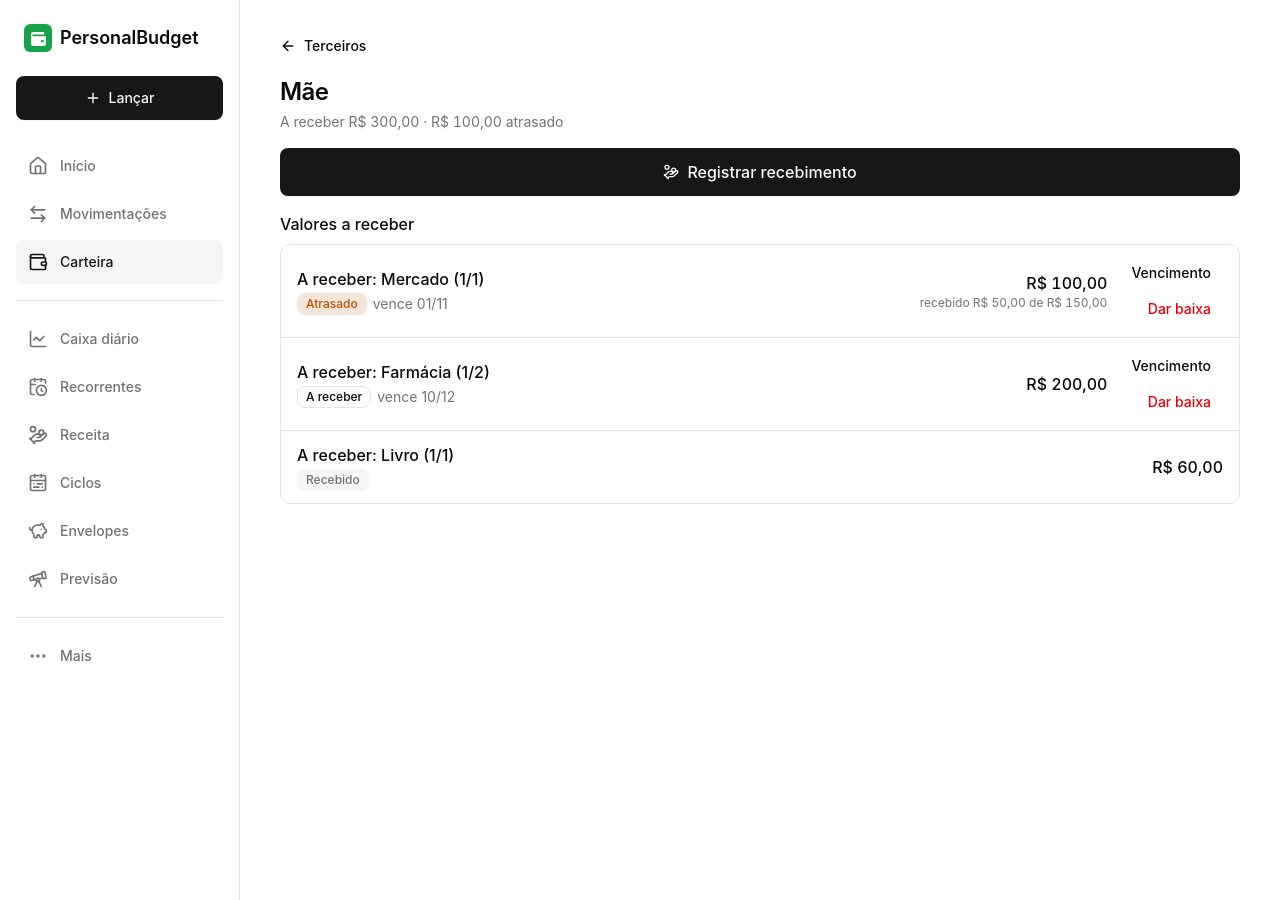
Test: Terceiro: a receber › should show why the back refused the new due date
Step 1. Click the button with aria-label "Alterar vencimento de A receber: Farmácia (1/2)" → point(1171, 366), box [1119, 350, 1223, 382]
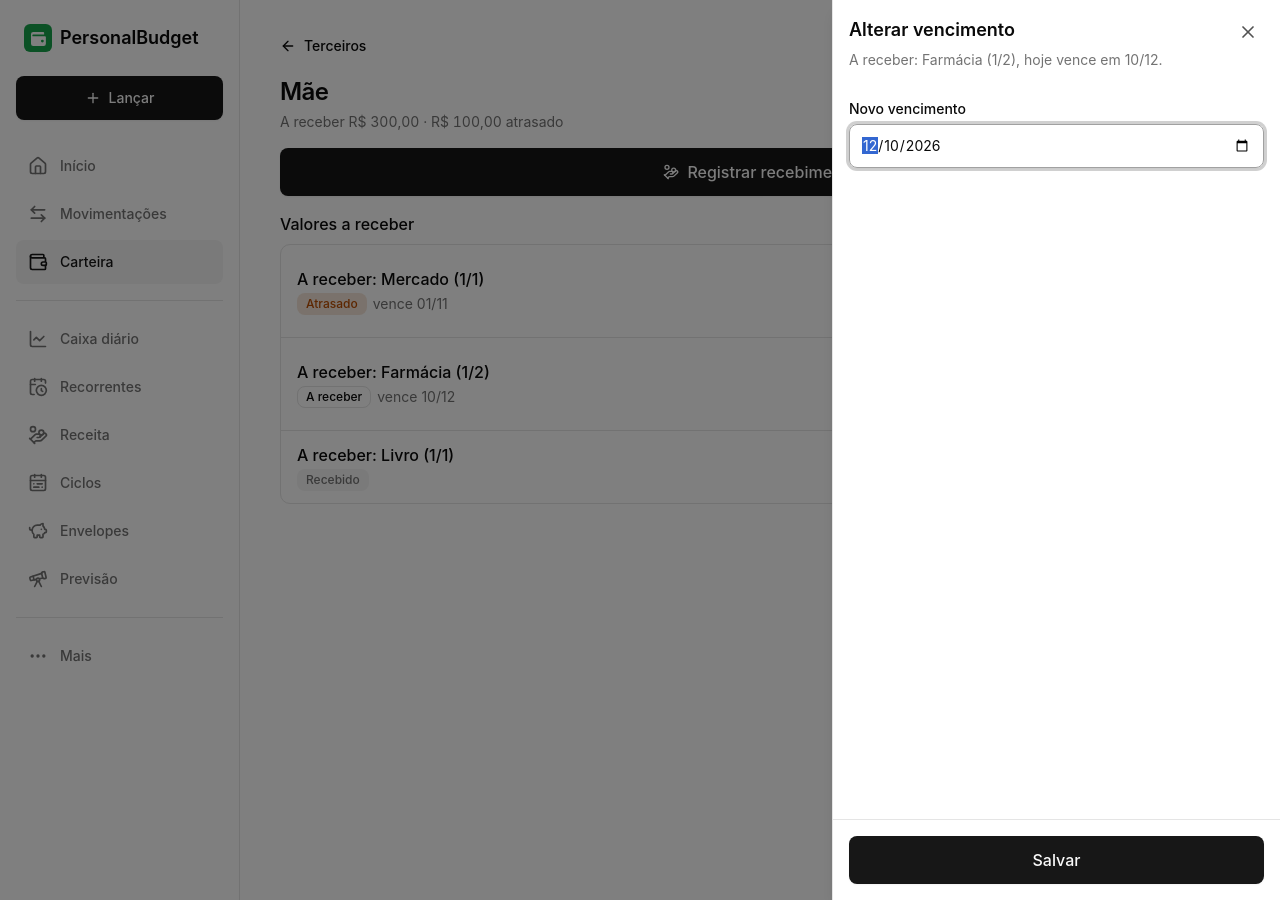
Step 2. Type "2026-12-20" into the date field labelled "Novo vencimento" → point(1056, 146), box [849, 124, 1264, 168]
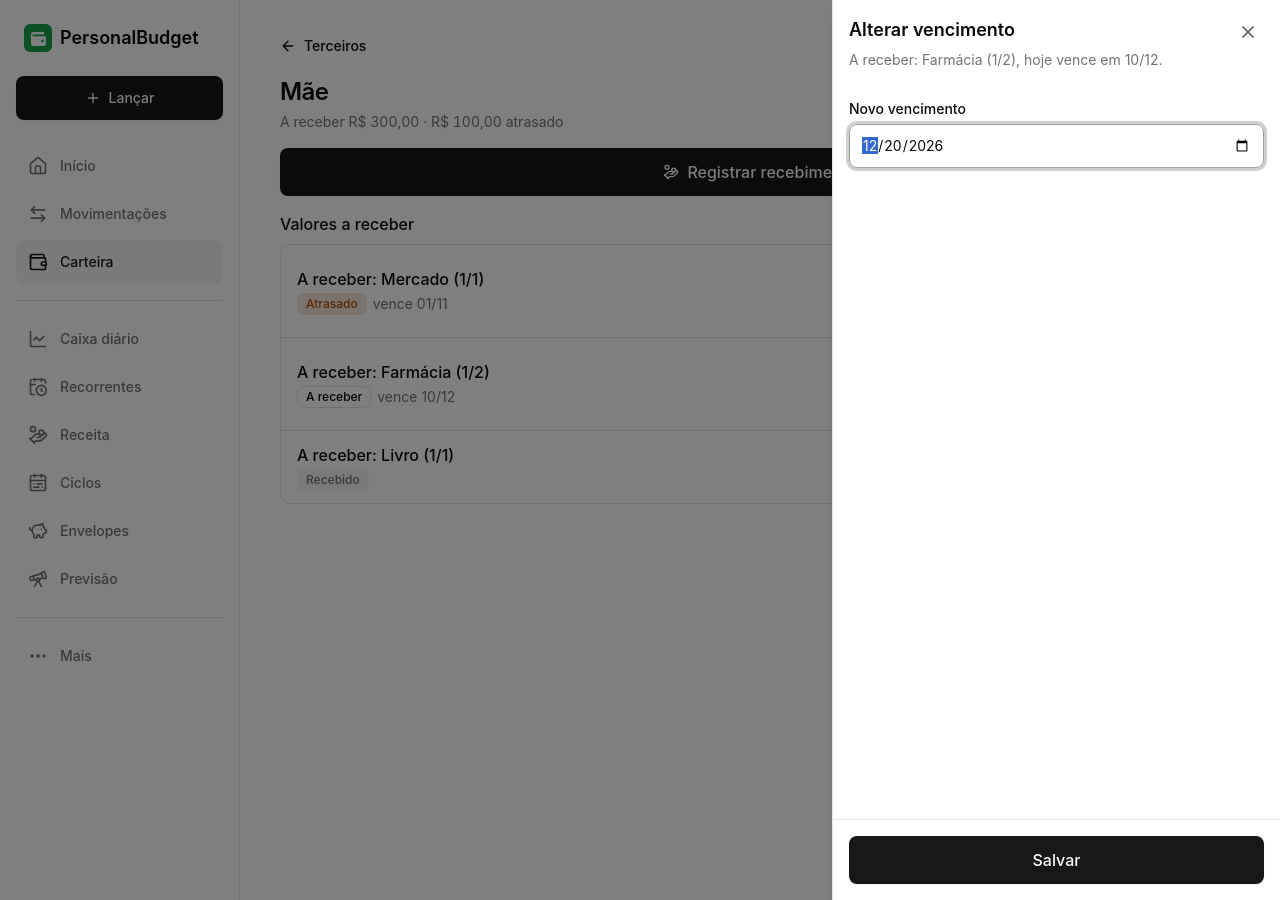
Step 3. Click the button "Salvar" → point(1056, 860), box [849, 836, 1264, 884]
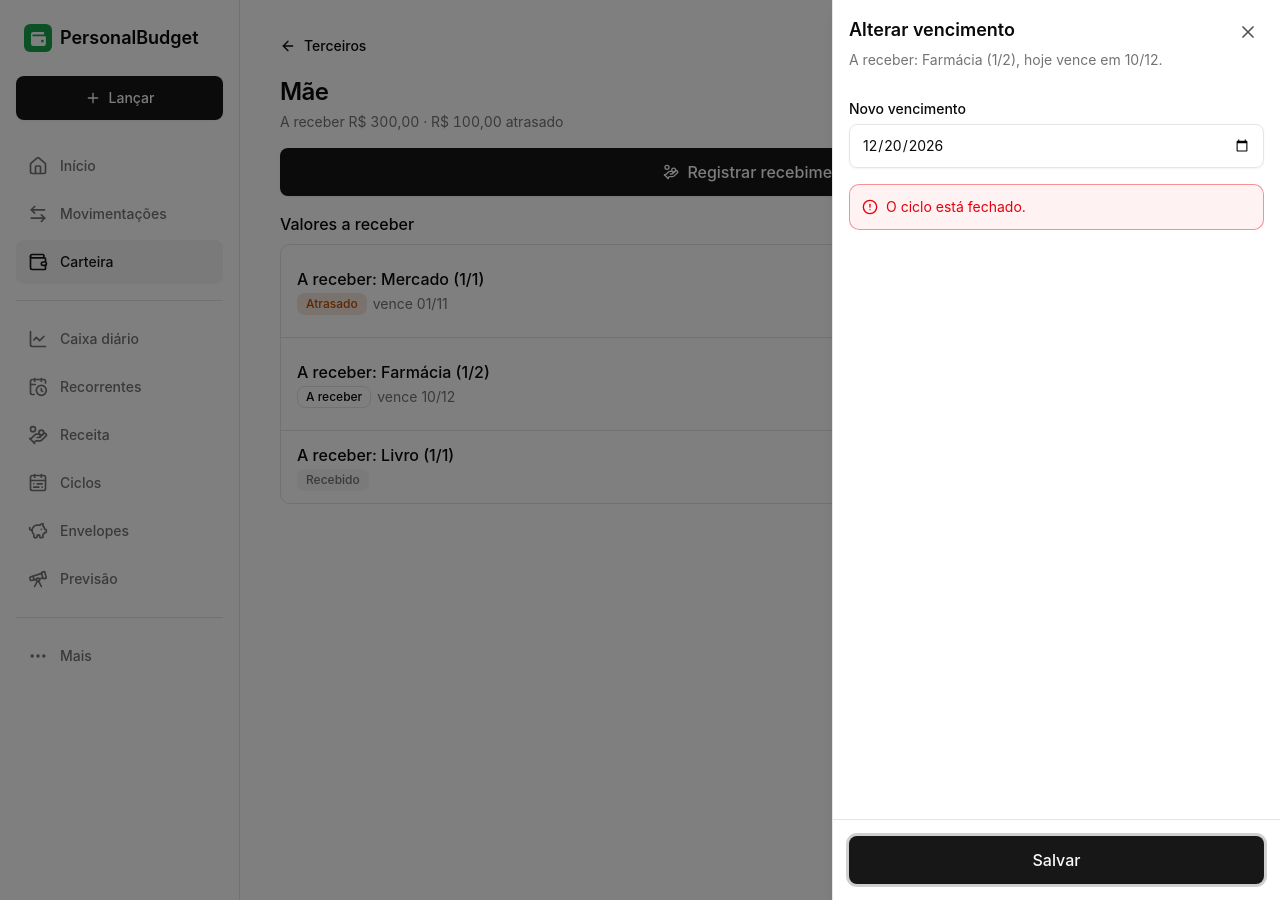
Check: the text "O ciclo está fechado." is shown, box [886, 197, 1026, 217]
